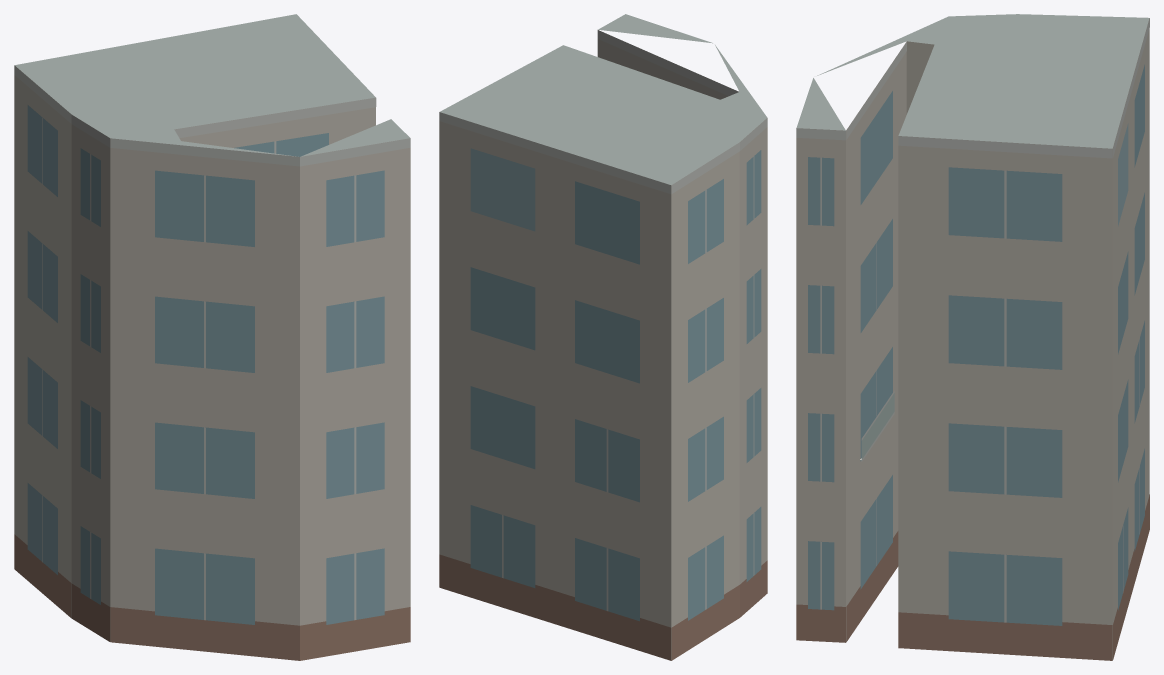
File: survey-upis-32472142.glb
3 views of the same model, side by side, from view 1: azimuth 30°, elevation 25°; view 2: azimuth 150°, elevation 25°; view 3: azimuth 270°, elevation 25° (orthographic). The views are drawn at different scales.
Visible parts, largest first — view 1: survey-upis-32472142.tmp; view 2: survey-upis-32472142.tmp; view 3: survey-upis-32472142.tmp.
Boxes of the visible parts, x1,y1,x2,y2 form: survey-upis-32472142.tmp: (14, 14, 410, 660); survey-upis-32472142.tmp: (439, 14, 767, 660); survey-upis-32472142.tmp: (796, 14, 1149, 660).
Bounding box in the file's own units: 7.23 × 12.8 × 8.01.
